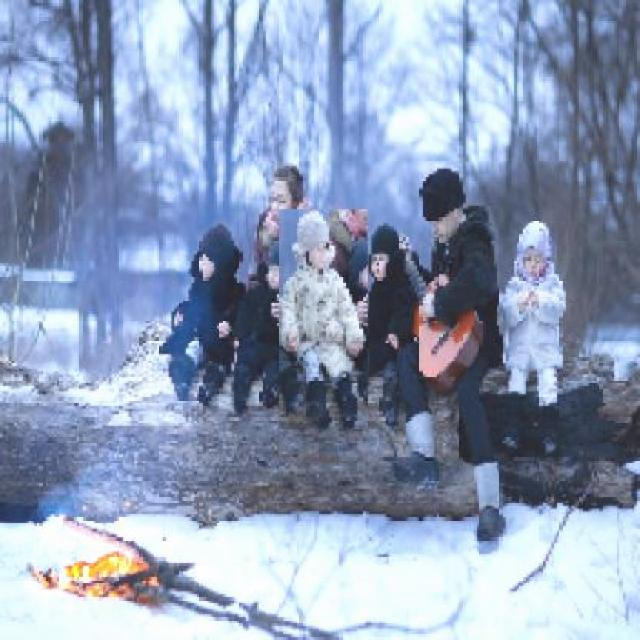child: (278, 209, 368, 431), (497, 219, 569, 452), (156, 222, 247, 404), (344, 220, 419, 426), (218, 237, 302, 417)
